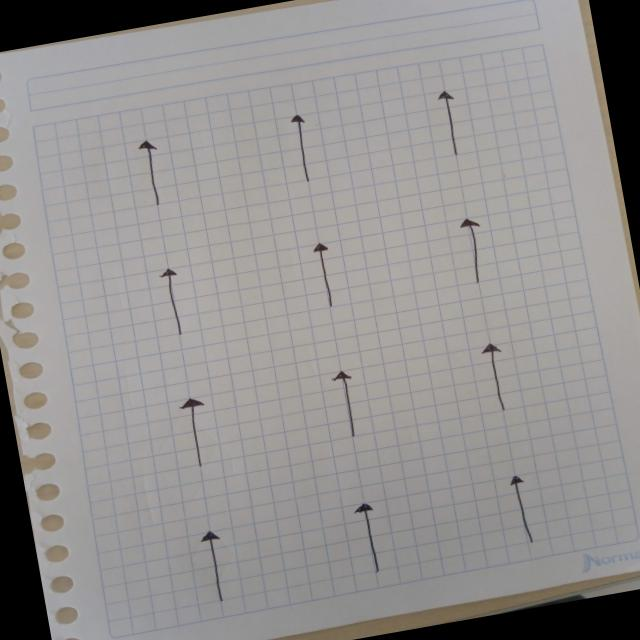arrow_line_up: (143, 258, 207, 345), (341, 494, 405, 579), (124, 128, 176, 220), (443, 207, 498, 293), (176, 396, 226, 489), (430, 81, 482, 164), (284, 112, 330, 204), (193, 522, 240, 610), (476, 340, 524, 422), (325, 366, 372, 446), (504, 468, 547, 544), (304, 236, 345, 308)
